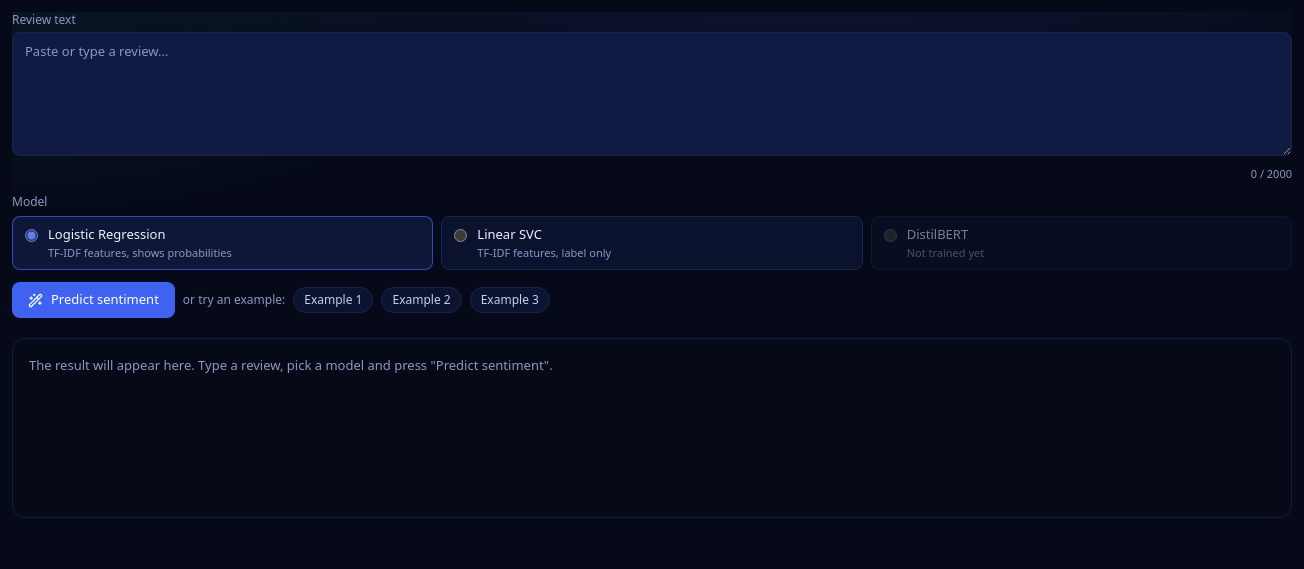
Test: PredictForm › sends the text and chosen model, then shows the label and probabilities
Type "Terrible product" into the text box labelled "Review text". click: (652, 94)
box: x1=12 y1=32 x2=1292 y2=156
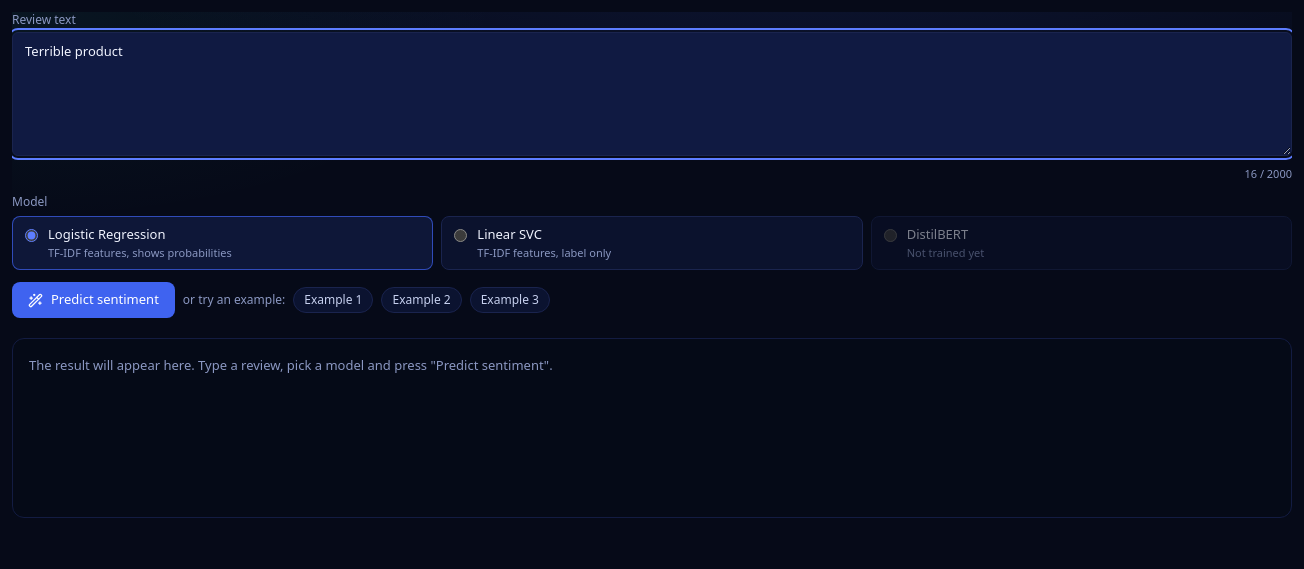
Click the button "Predict sentiment". click: (93, 300)
box: x1=12 y1=282 x2=175 y2=318
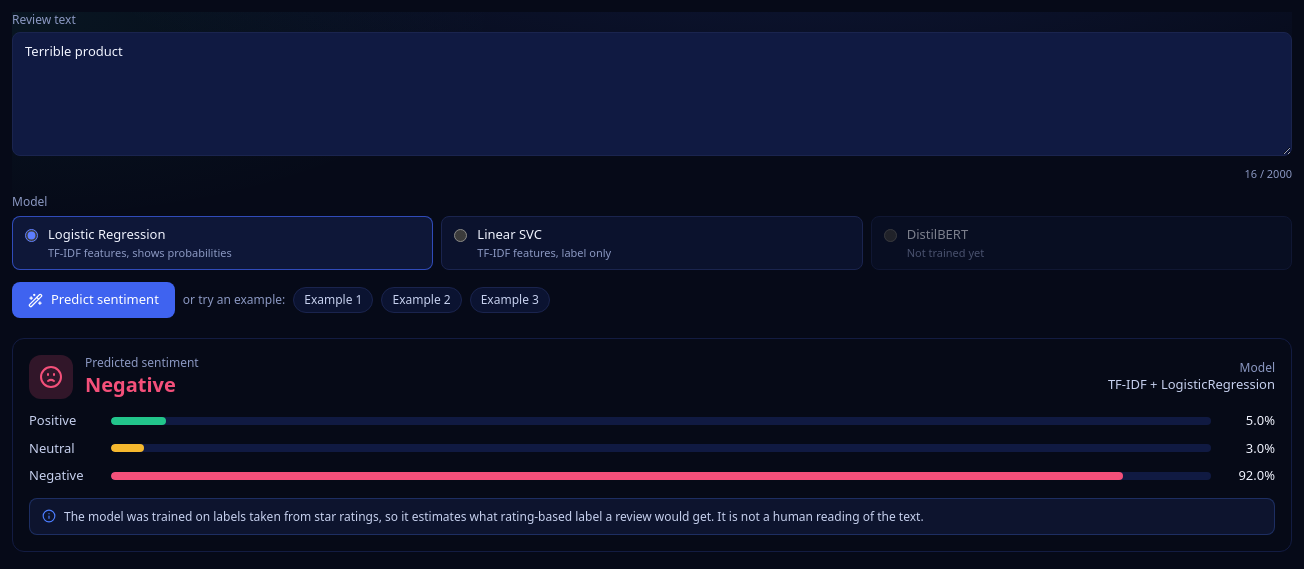
Expected: the text "Predicted sentiment" is shown, x1=85 y1=355 x2=199 y2=371
Expected: the text "92.0%" is shown, x1=1238 y1=466 x2=1275 y2=484
Expected: the text "trained on labels taken from star ratings" is shown, x1=64 y1=508 x2=924 y2=525
